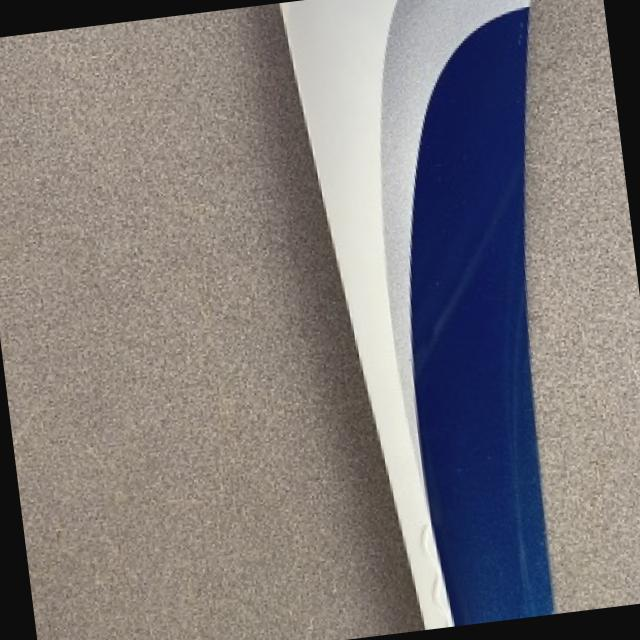healthy: (0, 7, 422, 640), (383, 0, 551, 624)
